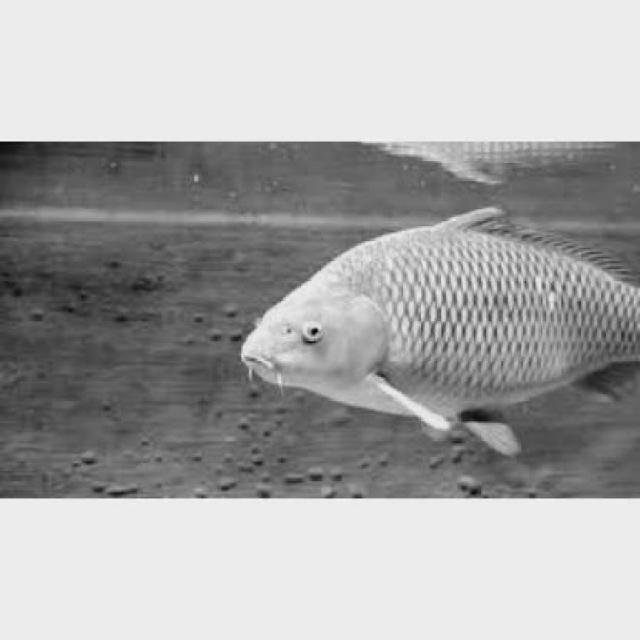ikan-mas: (243, 208, 640, 450)
